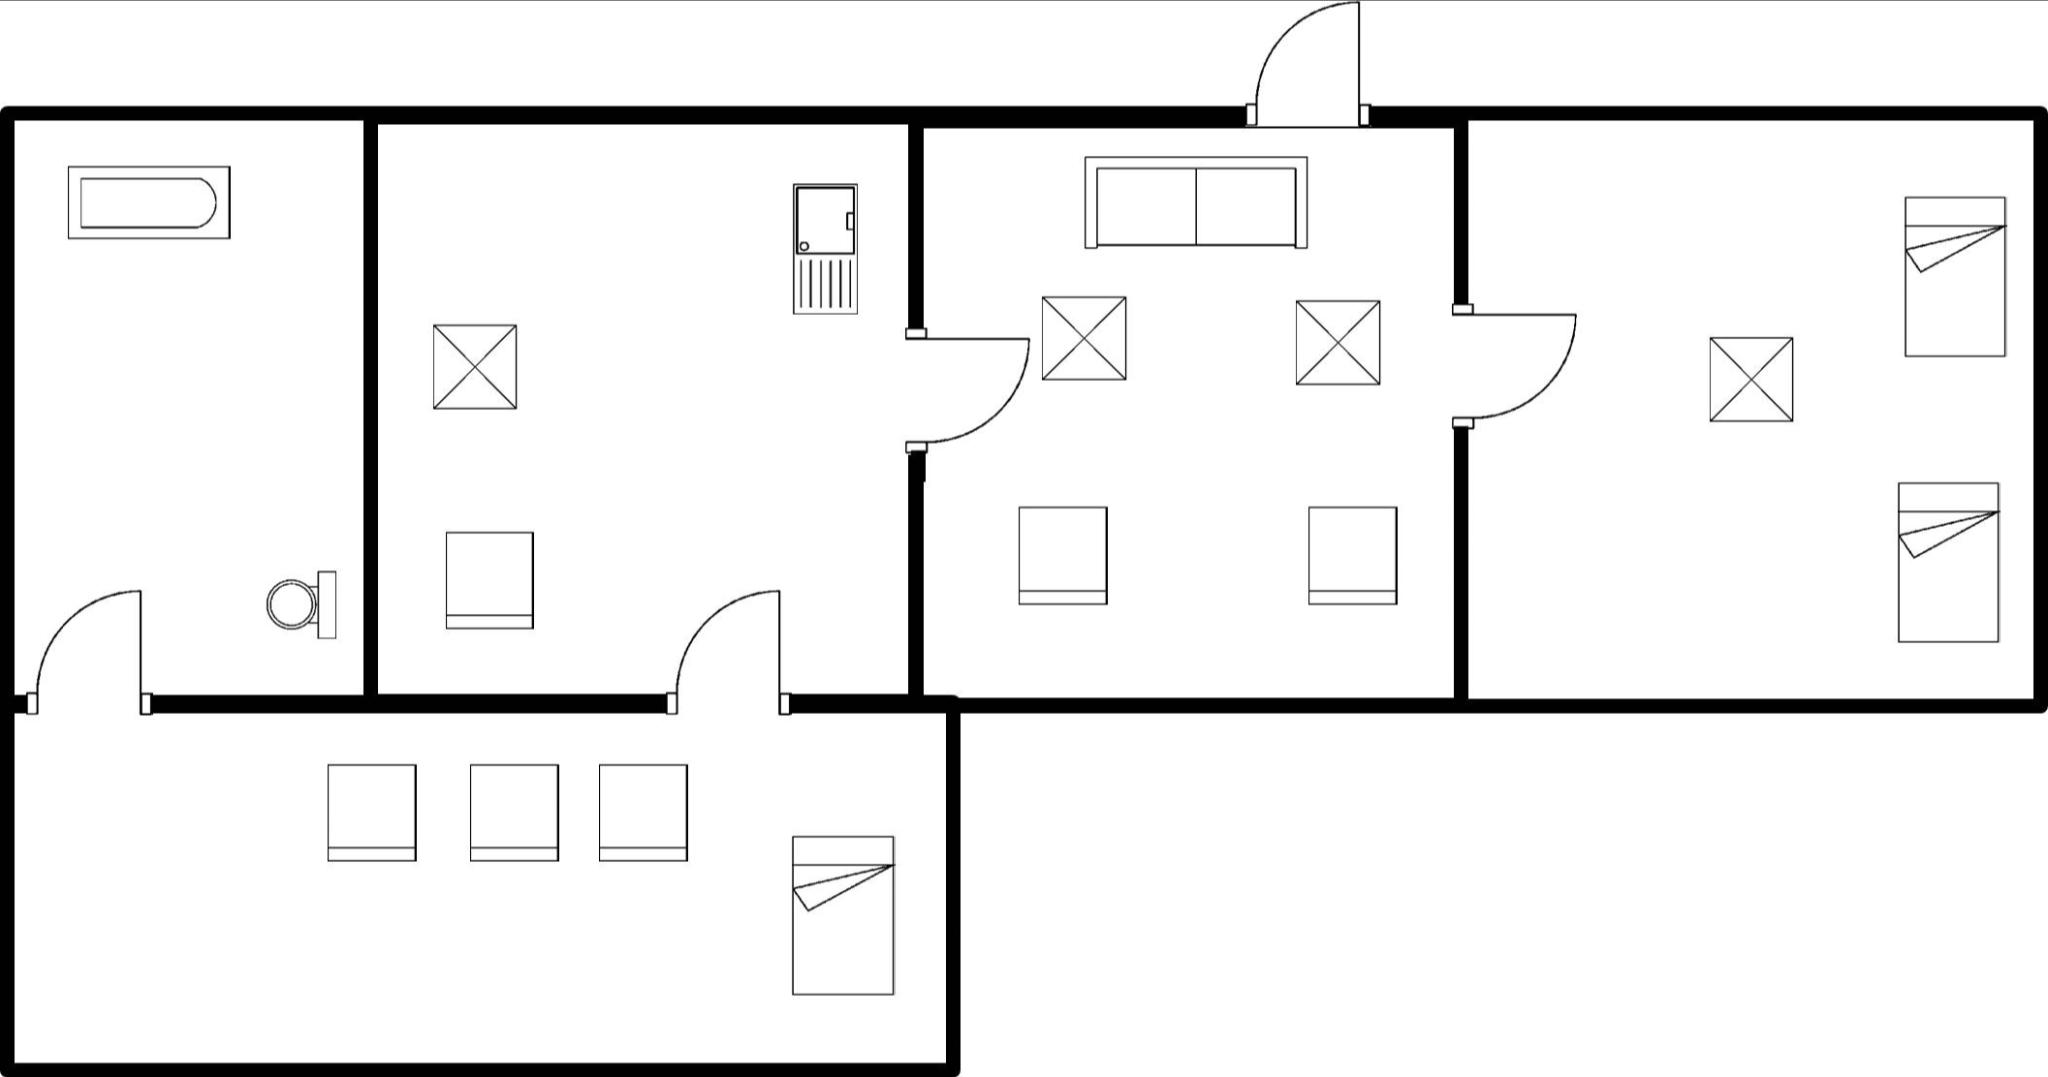bed: (777, 824, 910, 1011), (1885, 467, 2009, 654), (1895, 186, 2020, 367)
sink: (782, 173, 874, 332)
sofa: (1077, 145, 1319, 263)
toilet: (260, 558, 349, 652)
tub: (58, 157, 248, 253)
